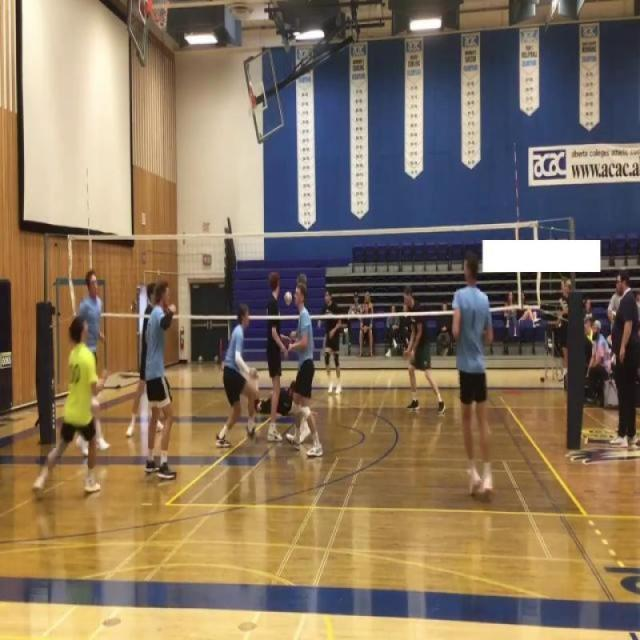volleyball: (284, 290, 292, 306), (198, 354, 203, 365), (214, 356, 219, 364)
